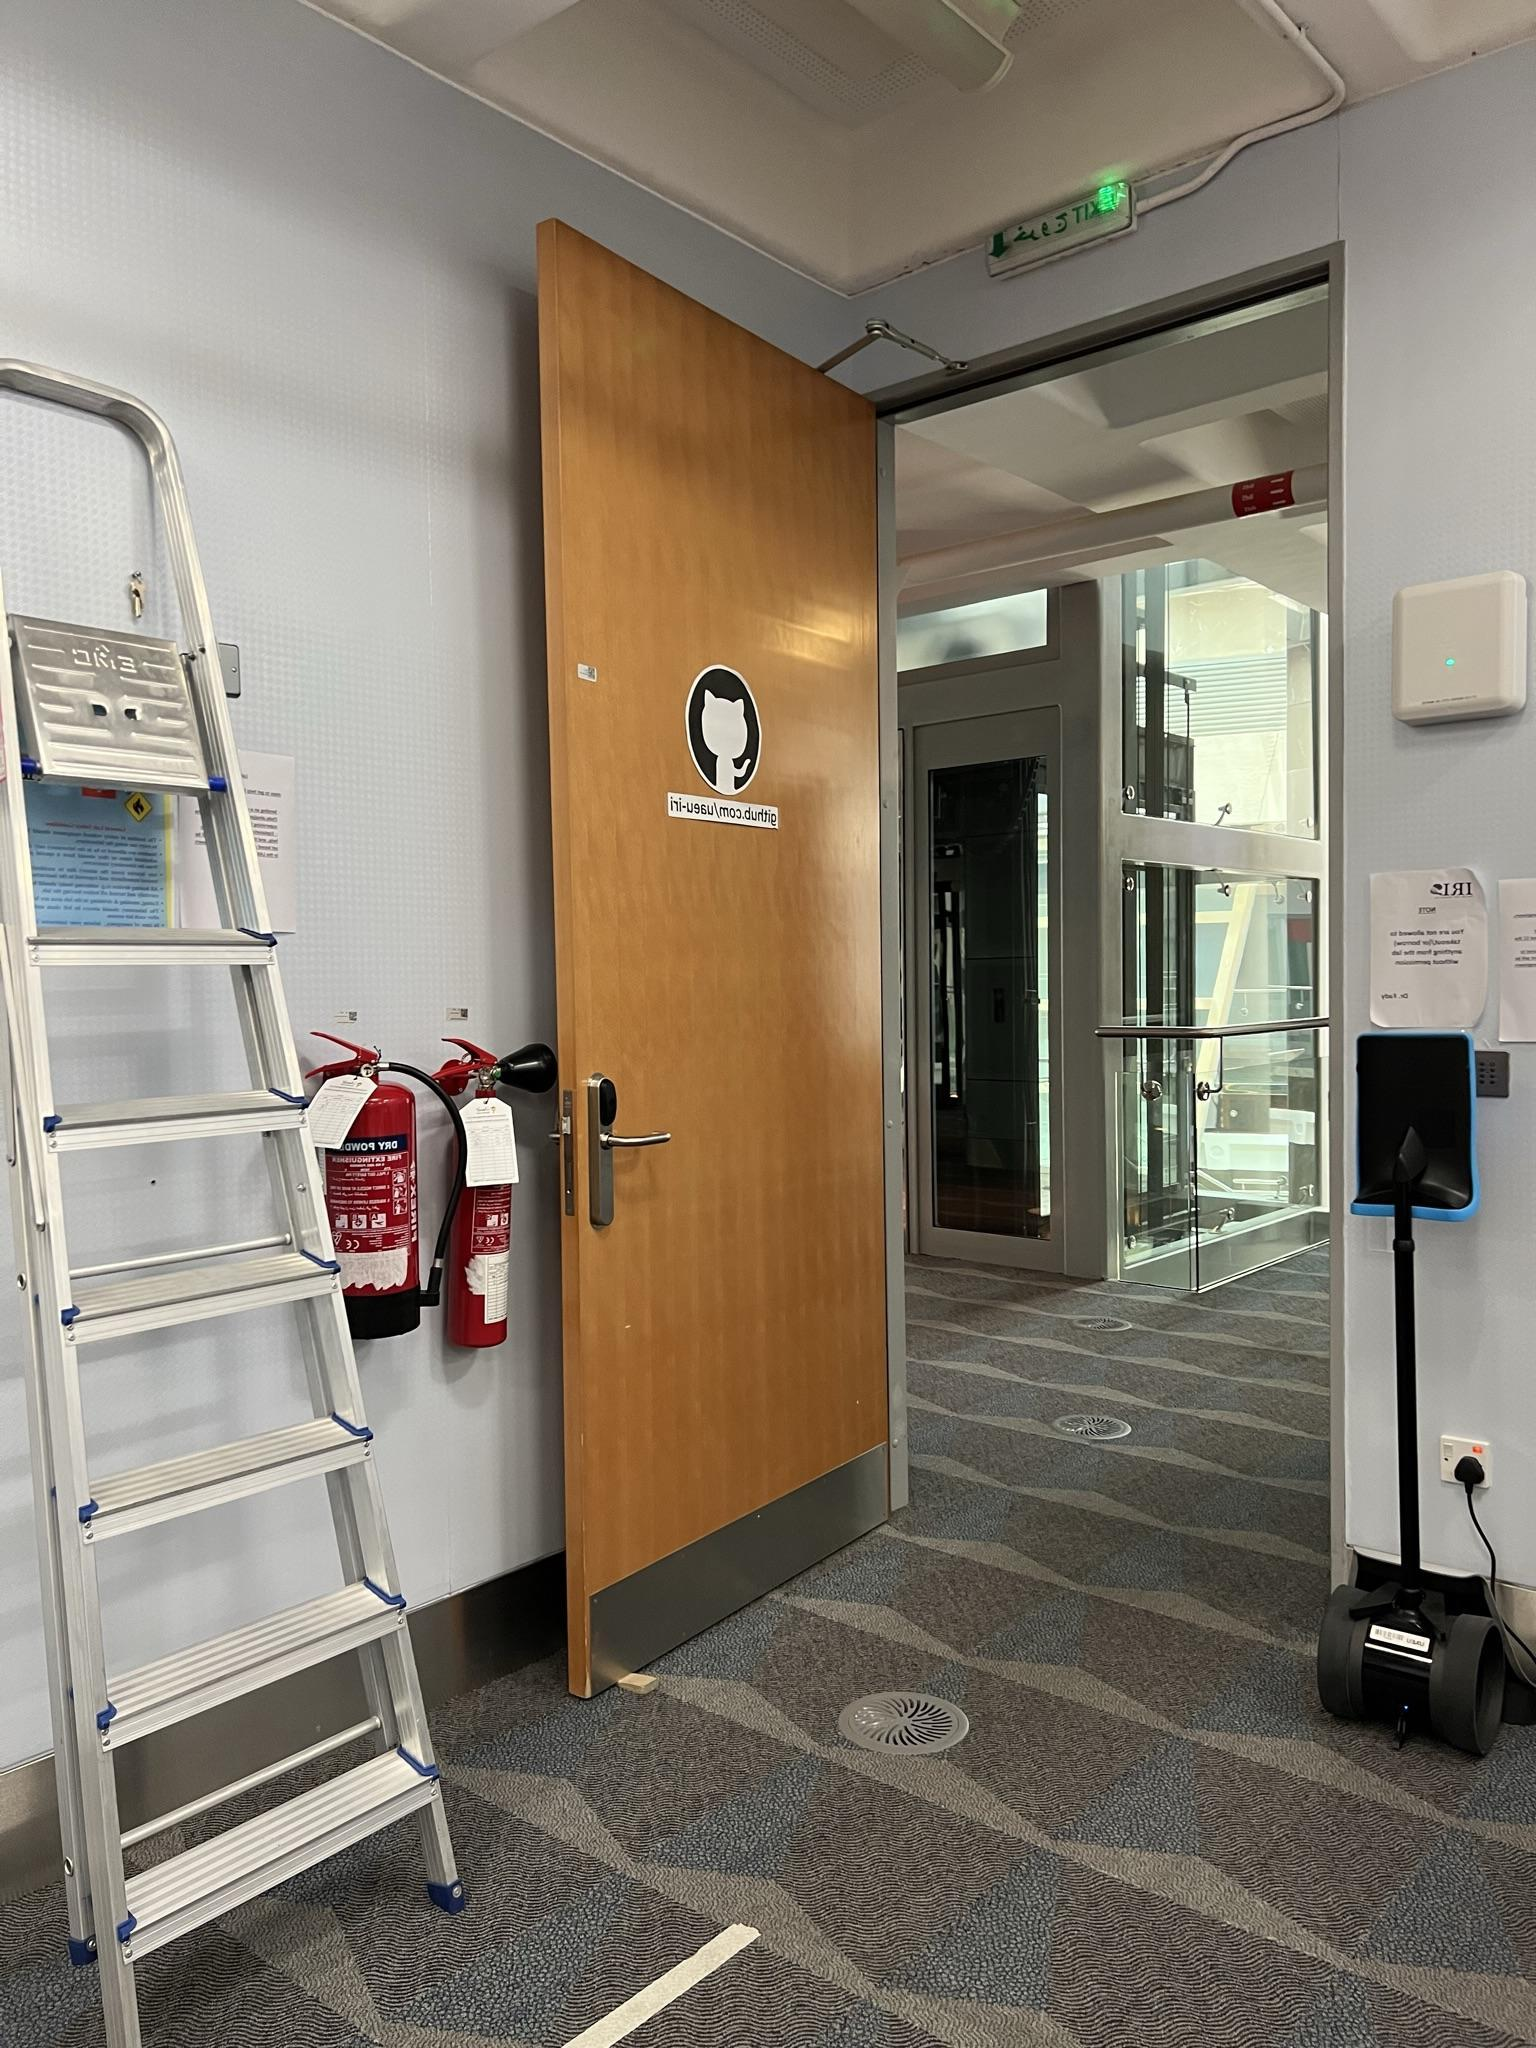door: (555, 306, 874, 1666)
handle: (574, 1080, 679, 1234)
